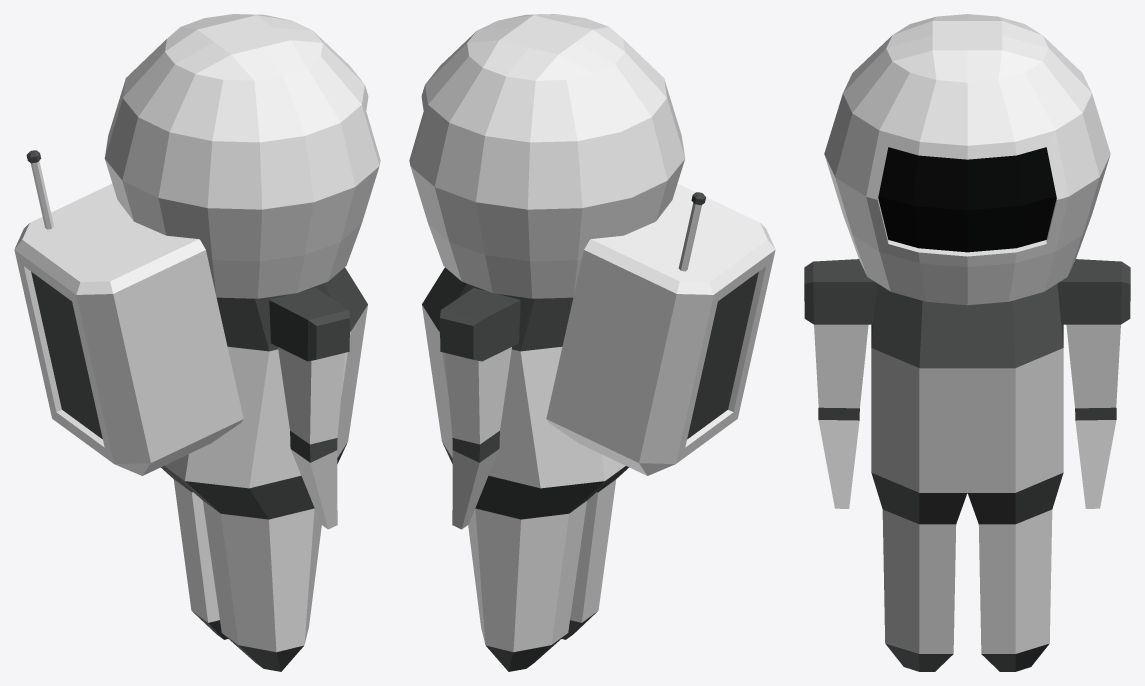
File: Astronaut.fbx
3 renders of one model, left to right at view 1: azimuth 30°, elevation 25°; view 2: azimuth 150°, elevation 25°; view 3: azimuth 270°, elevation 25°, orthographic. The views are drawn at different scales.
Visible parts, largest first — view 1: Куб.001, Куб, Куб.002, Цилиндр; view 2: Куб.001, Куб, Куб.002, Цилиндр; view 3: Куб, Куб.001.
Boxes of the visible parts, x1,y1,x2,y2 form: Куб.001: (104,14,380,298); Куб: (161,267,367,671); Куб.002: (14,183,243,475); Цилиндр: (26,150,53,229); Куб.001: (409,14,685,298); Куб: (422,267,628,671); Куб.002: (546,183,775,475); Цилиндр: (678,192,705,271); Куб: (804,259,1130,671); Куб.001: (824,14,1110,305).
Size of the model in its own units: 394 by 744 by 350.
